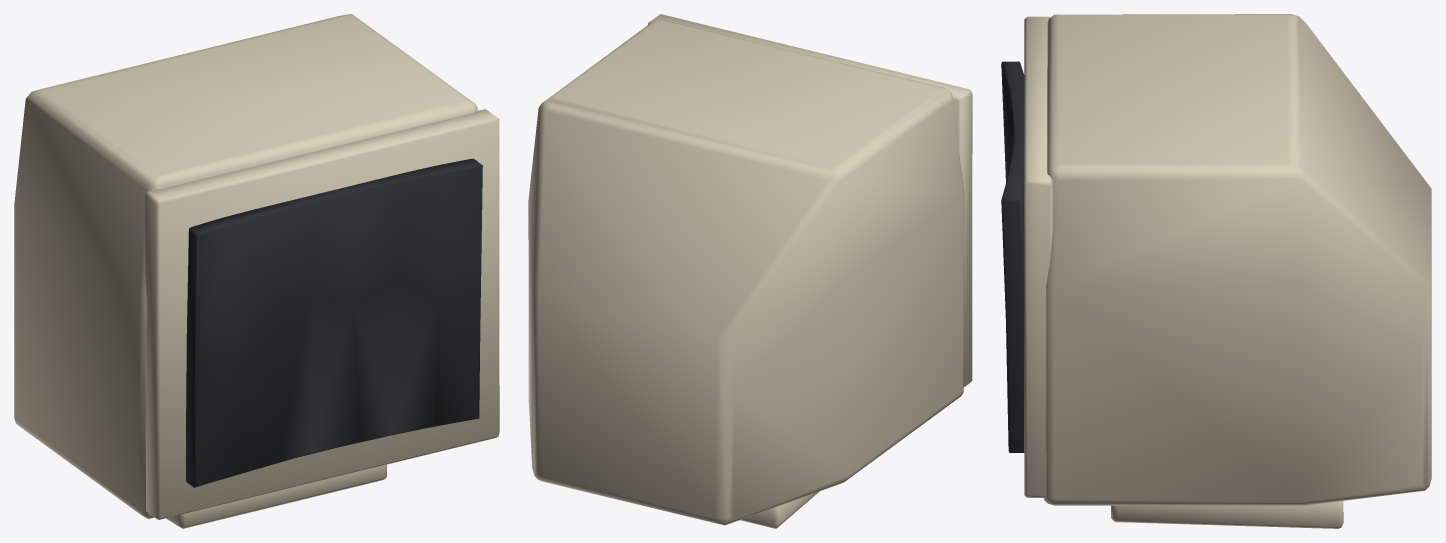
The model's file is crt-low.glb.
3 views of the same model, side by side, from view 1: azimuth 30°, elevation 25°; view 2: azimuth 150°, elevation 25°; view 3: azimuth 270°, elevation 25° (orthographic). The views are drawn at different scales.
Visible parts, largest first — view 1: CRTMonitor.001; view 2: CRTMonitor.001; view 3: CRTMonitor.001.
Boxes of the visible parts, x1,y1,x2,y2 form: CRTMonitor.001: [14, 14, 499, 528]; CRTMonitor.001: [528, 14, 972, 528]; CRTMonitor.001: [1001, 14, 1431, 528].
Size of the model in its own units: 0.405 by 0.4292 by 0.4355.
